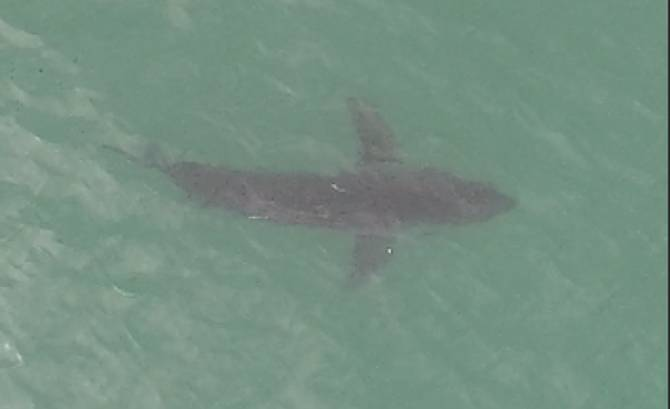shark: (82, 88, 531, 294)
